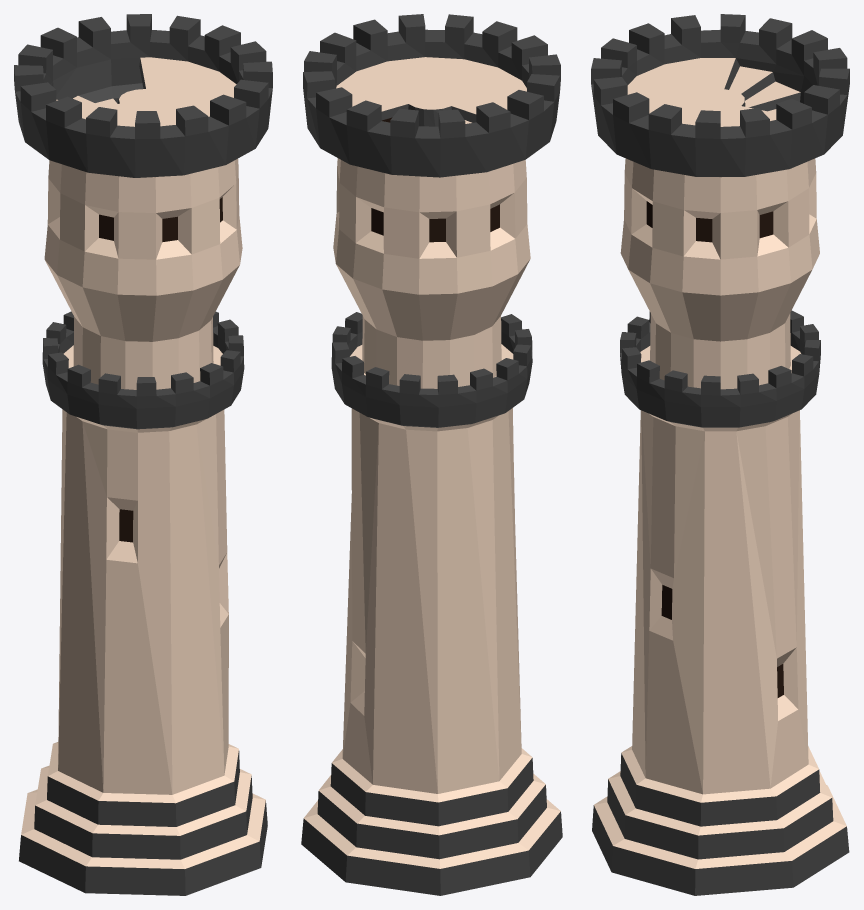
File: tower-2.glb
The picture shows the model from 3 angles, left to right: view 1: azimuth 30°, elevation 25°; view 2: azimuth 150°, elevation 25°; view 3: azimuth 270°, elevation 25°; orthographic projection.
Parts seen in each view (by area): view 1: Castle.008; view 2: Castle.008; view 3: Castle.008.
Boxes of the visible parts, box(x1,y1,x2,y2) form: Castle.008: box(14, 14, 272, 895); Castle.008: box(301, 14, 562, 895); Castle.008: box(591, 14, 849, 895).
Size of what is drawn, in the model's own units: 4.22 by 13.9 by 4.22.
Materials: 1 (1 with a texture image).
